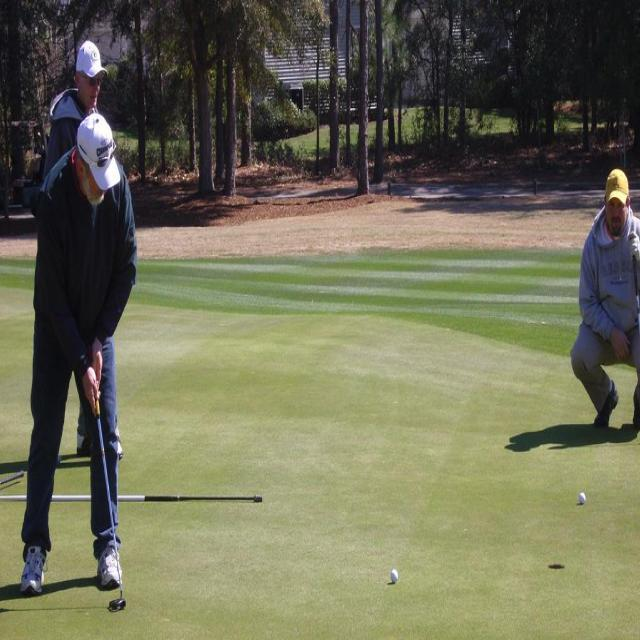ClubHead: (102, 584, 130, 614)
GolfBall: (385, 566, 401, 586), (574, 488, 588, 508)
